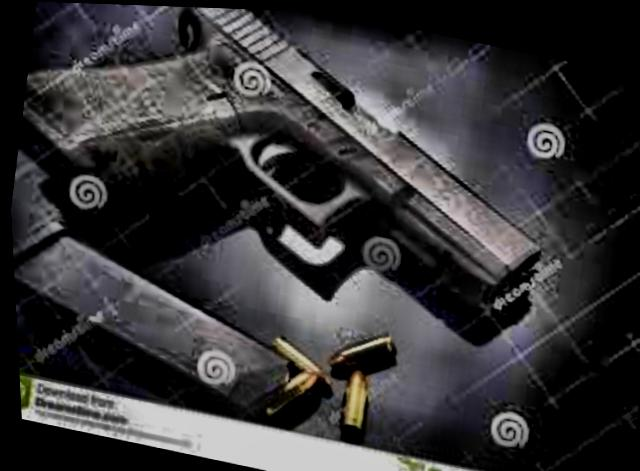pistol: (0, 0, 569, 361)
